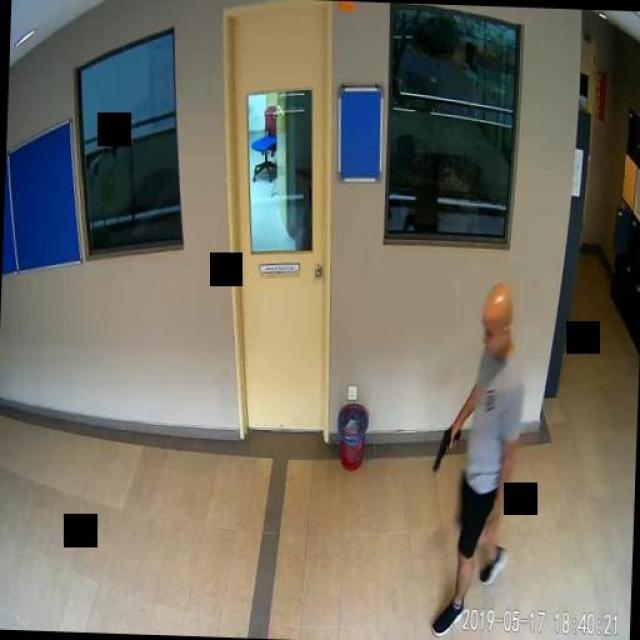gun: (430, 424, 459, 471)
